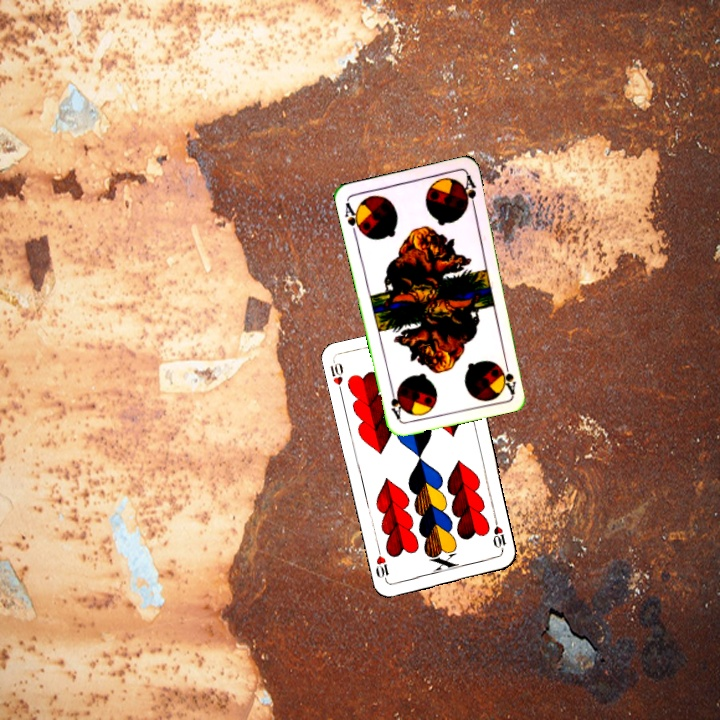H10: (326, 358, 346, 398), (489, 514, 508, 555)
SA: (341, 198, 365, 238), (500, 355, 519, 396)
